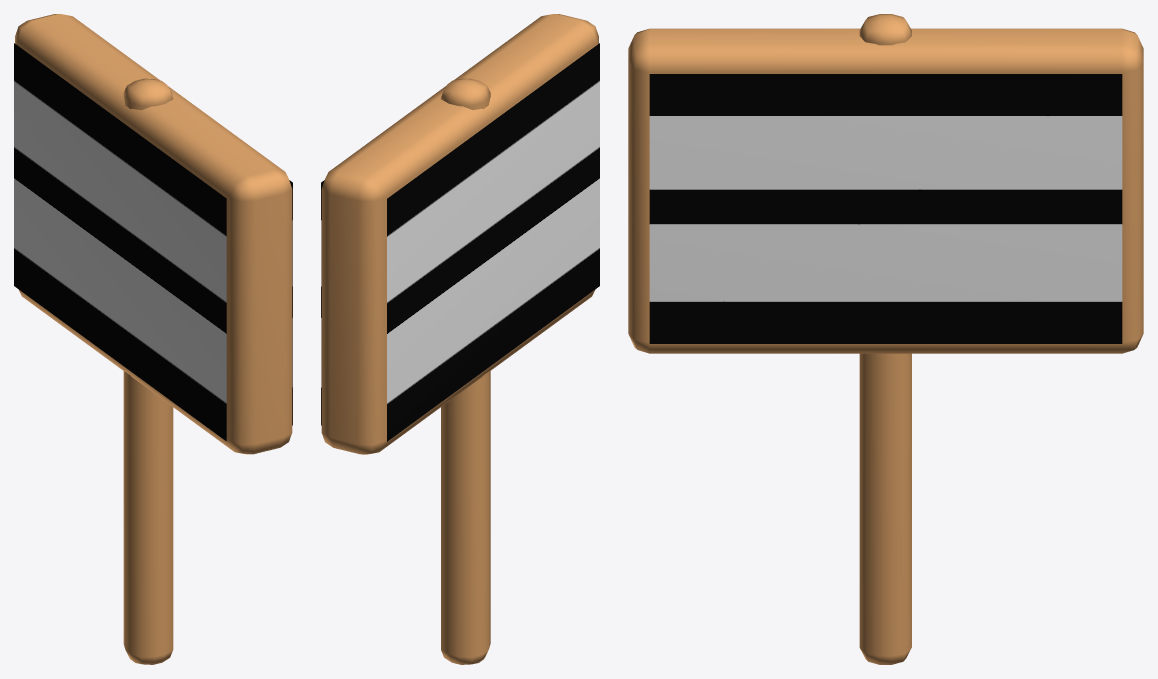
Rendered from SignText.fbx.
3 views of the same model, side by side, from view 1: azimuth 30°, elevation 25°; view 2: azimuth 150°, elevation 25°; view 3: azimuth 270°, elevation 25° (orthographic). The views are drawn at different scales.
Visible parts, largest first — view 1: pCube2; view 2: pCube2; view 3: pCube2.
Part boxes in pixels (<box>): pCube2: <box>14,14,292,664</box>; pCube2: <box>321,14,599,664</box>; pCube2: <box>628,14,1143,664</box>.
Bounding box in the file's own units: 0.5943 × 4.98 × 3.62.
